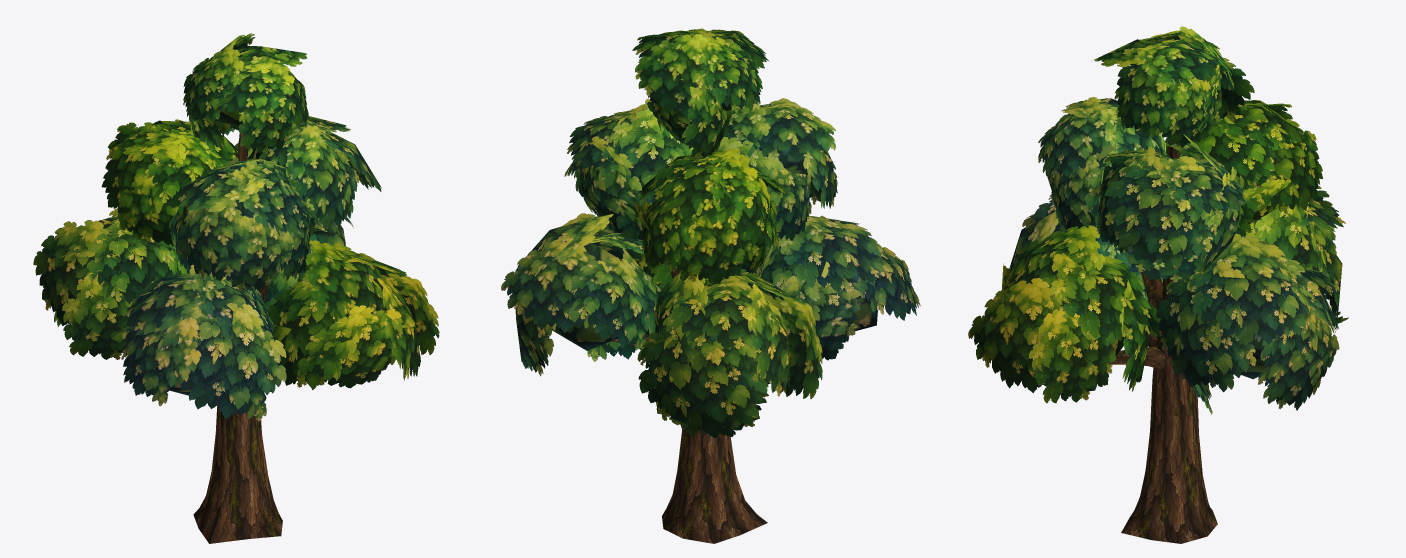
File: tree_linden.glb
The picture shows the model from 3 angles, left to right: view 1: azimuth 30°, elevation 25°; view 2: azimuth 150°, elevation 25°; view 3: azimuth 270°, elevation 25°; orthographic projection. The views are drawn at different scales.
Parts seen in each view (by area): view 1: tree_linden; view 2: tree_linden; view 3: tree_linden.
Part boxes in pixels (x1,y1,x2,y2): tree_linden: (33, 33, 439, 543); tree_linden: (501, 28, 920, 543); tree_linden: (968, 26, 1348, 543).
Bounding box in the file's own units: 4.44 × 6.24 × 4.76.
2 materials, 2 textured.
